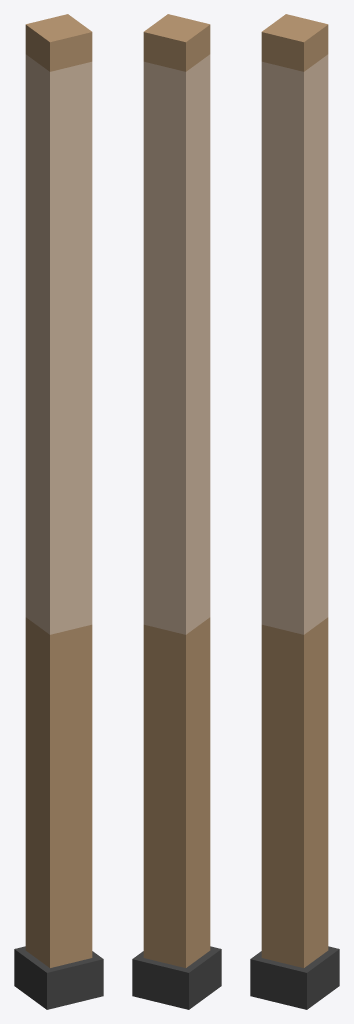
Rendered from corner_02.glb.
The picture shows the model from 3 angles, left to right: view 1: azimuth 30°, elevation 25°; view 2: azimuth 150°, elevation 25°; view 3: azimuth 330°, elevation 25°; orthographic projection.
Parts seen in each view (by area): view 1: Untitled; view 2: Untitled; view 3: Untitled.
Boxes of the visible parts, bbox=[...] form: Untitled: bbox=[14, 14, 103, 1009]; Untitled: bbox=[132, 14, 221, 1009]; Untitled: bbox=[250, 14, 339, 1009].
Size of the model in its own units: 0.24 by 3.9 by 0.24.
Materials: 1 (1 with a texture image).
